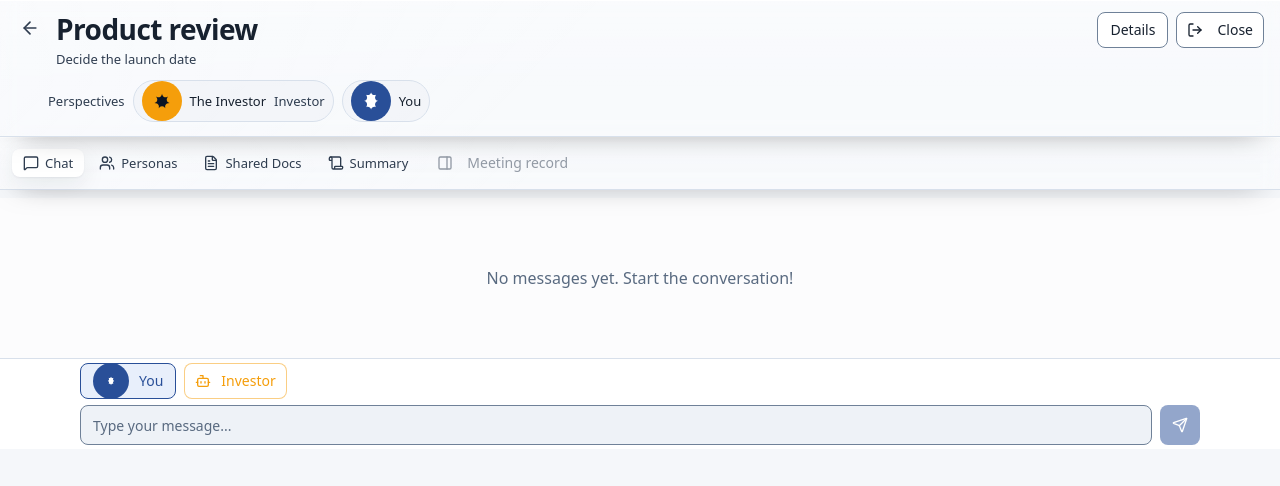
MeetingRoom › reuses one request key after a lost response and saves once
This screenshot has width=1280, height=486.
Type "Retry me" into the field with placeholder "Type your message...".
click(616, 425); type("Retry me")  # box [80, 405, 1152, 445]
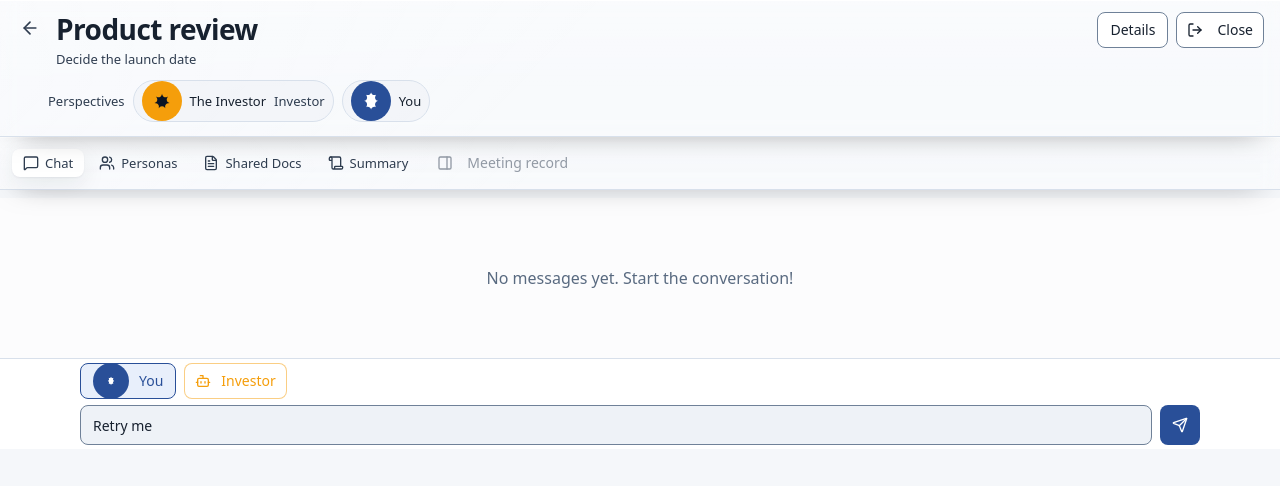
Click the button named "Send message".
click(1180, 425)  # box [1160, 405, 1200, 445]
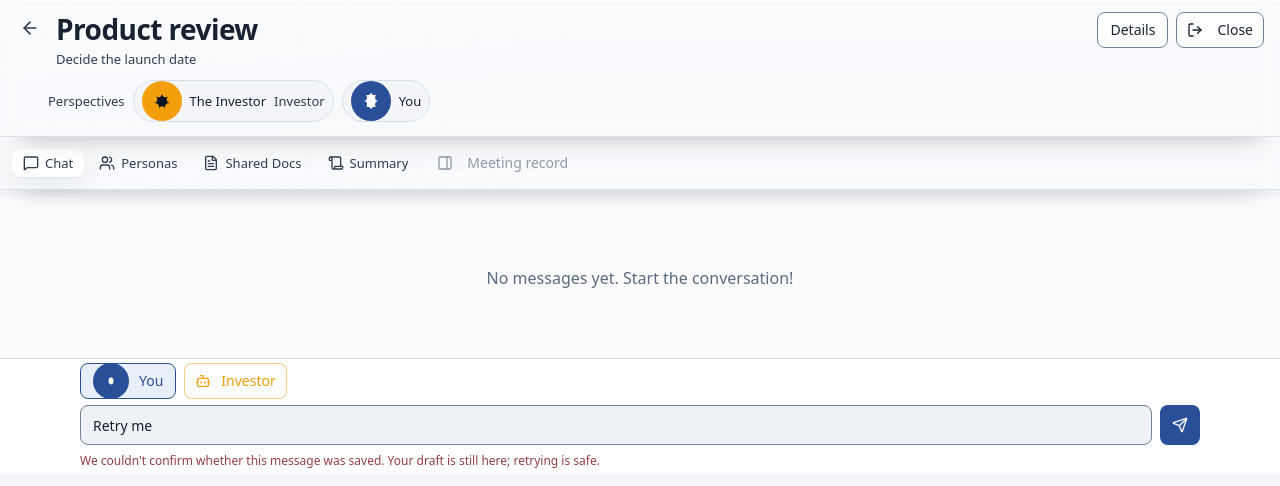
Result: the text "We couldn't confirm whether this message was saved. Your draft is still here; retrying is safe." is shown at [80, 452, 600, 469]
Click the button named "Send message".
click(1180, 425)  # box [1160, 405, 1200, 445]
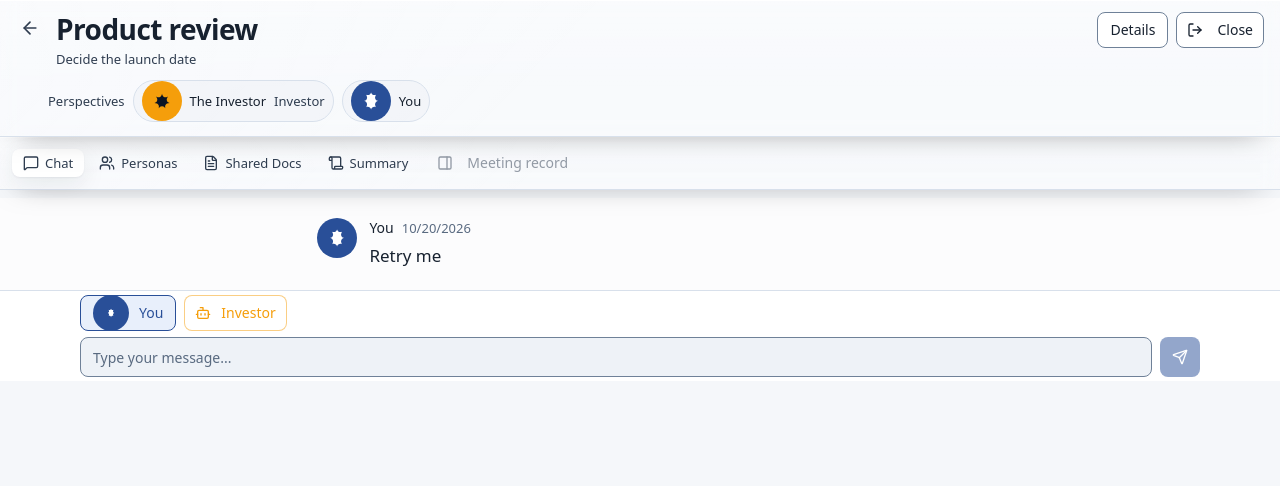
Result: the field with placeholder "Type your message..." is empty at [80, 337, 1152, 377]
Result: the text "Retry me" is shown once at [369, 244, 441, 267]
